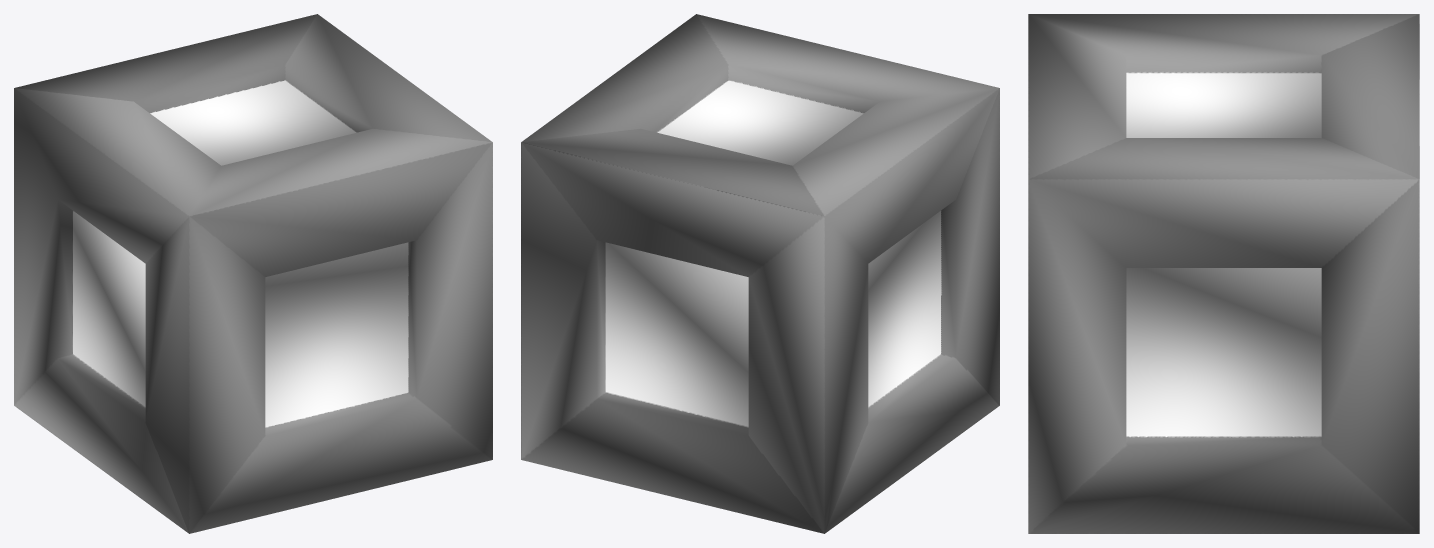
The model's file is WoodenBox.fbx.
The picture shows the model from 3 angles, left to right: view 1: azimuth 30°, elevation 25°; view 2: azimuth 150°, elevation 25°; view 3: azimuth 270°, elevation 25°; orthographic projection. The views are drawn at different scales.
Parts seen in each view (by area): view 1: Woodbox; view 2: Woodbox; view 3: Woodbox.
Part boxes in pixels (x1=…): Woodbox: x1=14, y1=14, x2=492, y2=533; Woodbox: x1=521, y1=14, x2=999, y2=533; Woodbox: x1=1028, y1=14, x2=1419, y2=533.
Size of the model in its own units: 57.6 by 57.6 by 57.6.
